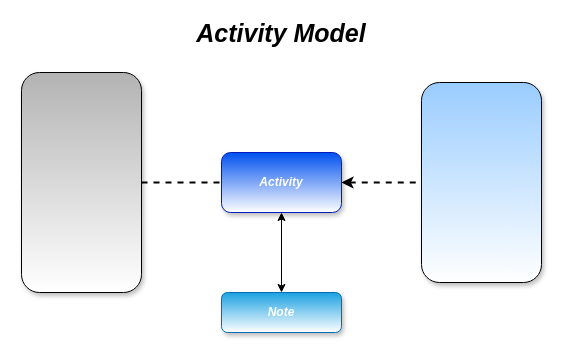
The diagram is 565 pixels wide and 357 high, and some of its shapes have lost their labels. The centre of each missing label's shape, as x and y in pixels:
"Contact Account Case" goes at [82,184].
"Phone call Email Task" goes at [482,184].
